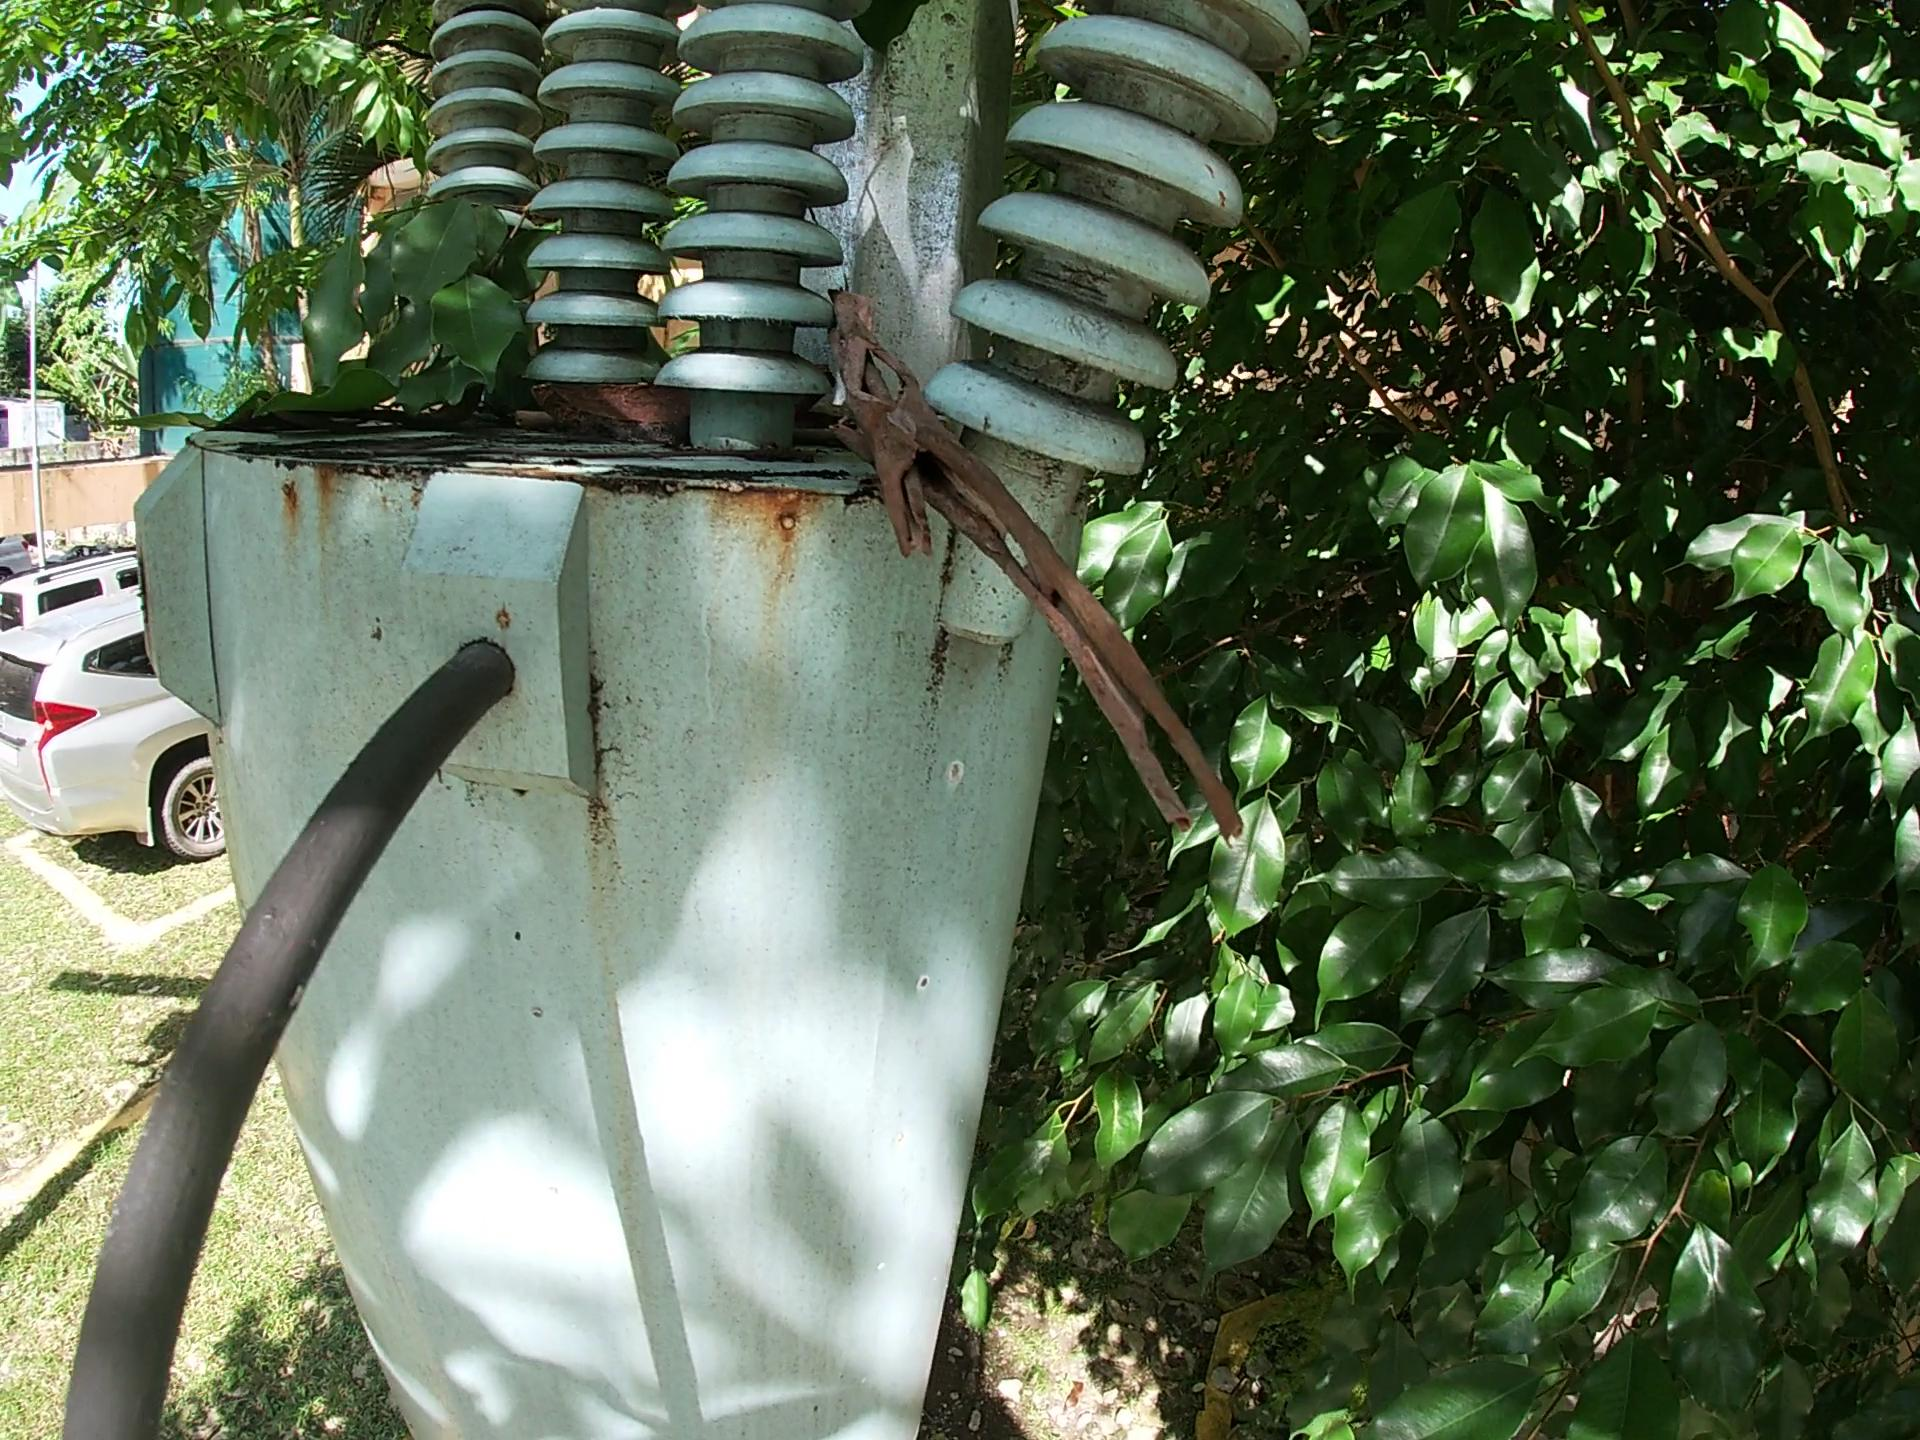branch with leaves: (116, 175, 529, 439)
mahogany fruit: (556, 369, 717, 422)
tree branch: (819, 278, 1279, 859), (522, 443, 770, 473), (511, 402, 593, 427)
